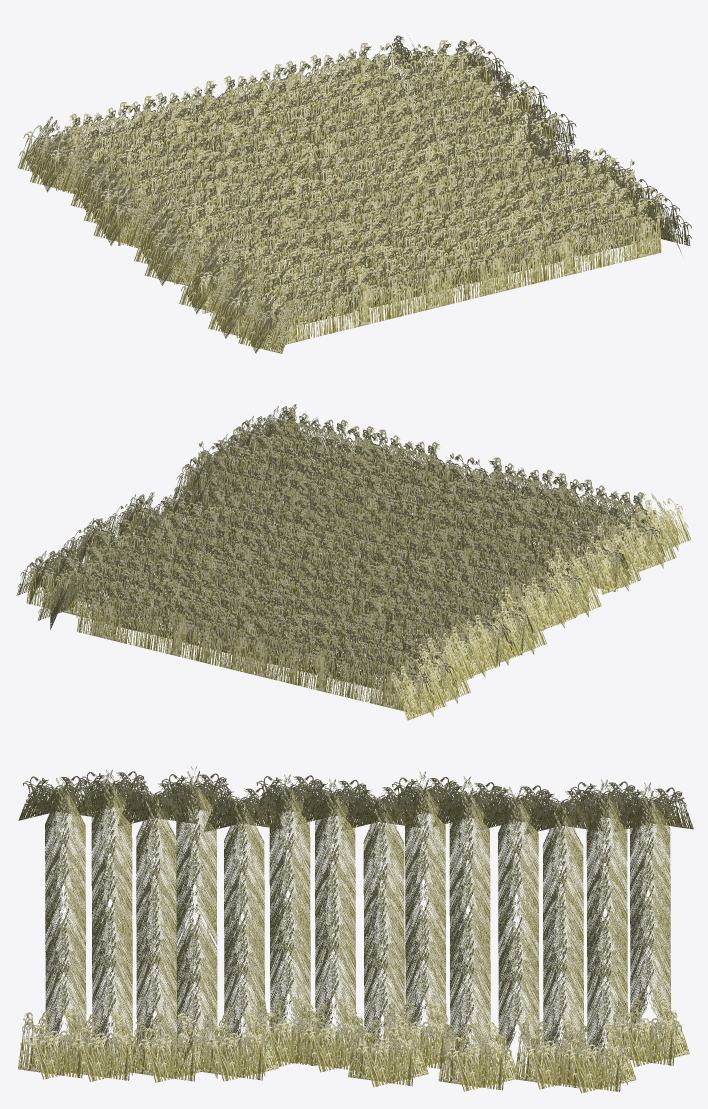
Rendered from field_grain.dae.
3 views of the same model, one above another, from view 1: azimuth 30°, elevation 25°; view 2: azimuth 150°, elevation 25°; view 3: azimuth 270°, elevation 25° (orthographic). The views are drawn at different scales.
Visible parts, largest first — view 1: Plane30-Pivot; view 2: Plane30-Pivot; view 3: Plane30-Pivot.
Boxes of the visible parts, x1,y1,x2,y2 form: Plane30-Pivot: (18,35,691,353); Plane30-Pivot: (16,404,690,720); Plane30-Pivot: (18,766,693,1093).
Bounding box in the file's own units: 28.17 × 27.64 × 3.05.
